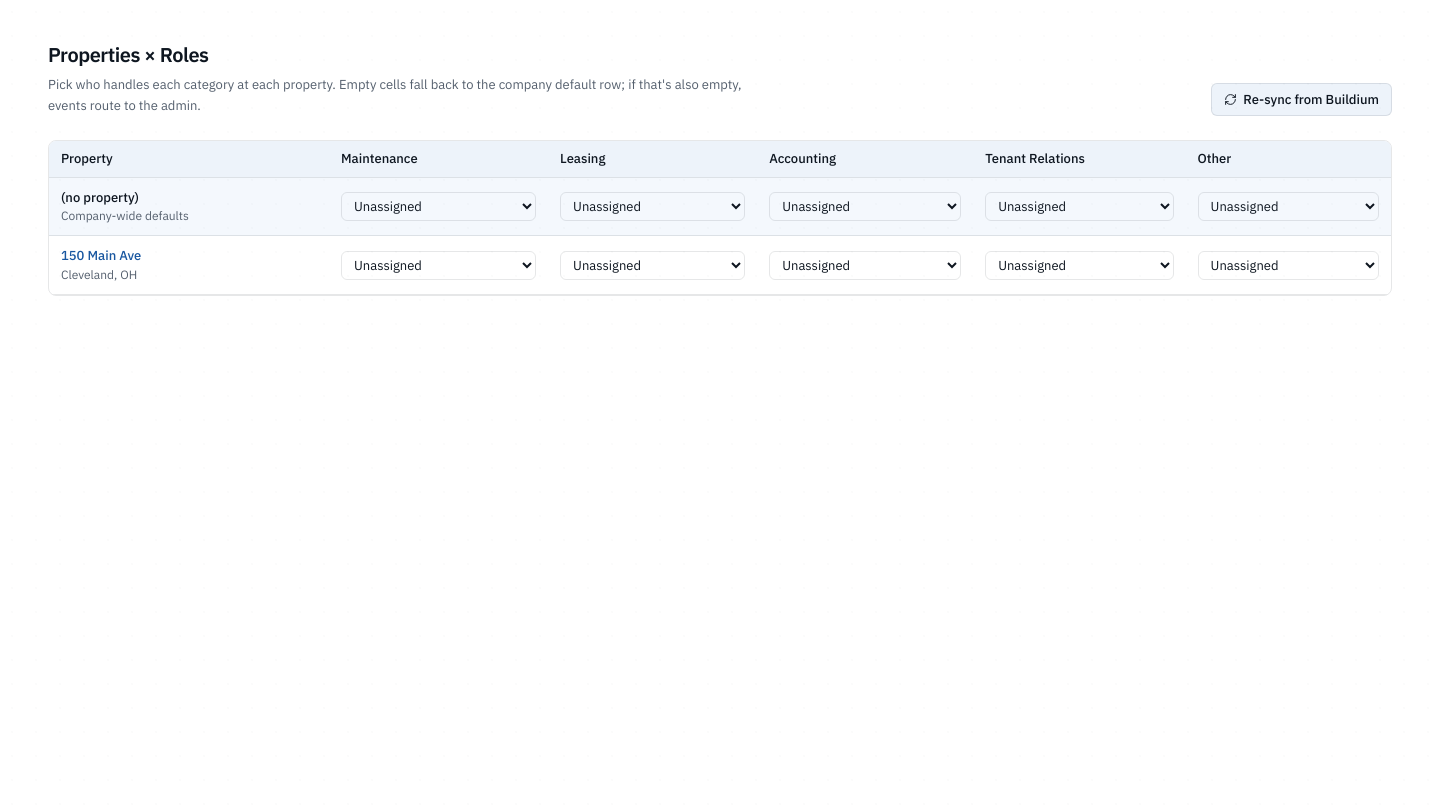
Test: PropertiesPage — PR #82 saving state › failed PUT shows the Failed pill, rolls back, and surfaces the toast
The image size is (1440, 810).
Expected: the row with test id "property-row-100" is shown, x1=49 y1=236 x2=1391 y2=294
Select "Robert Friedman · Property Manager" in the 6th dropdown with test id "assign-to-user-cell" at (439, 265), box x1=341 y1=250 x2=536 y2=280
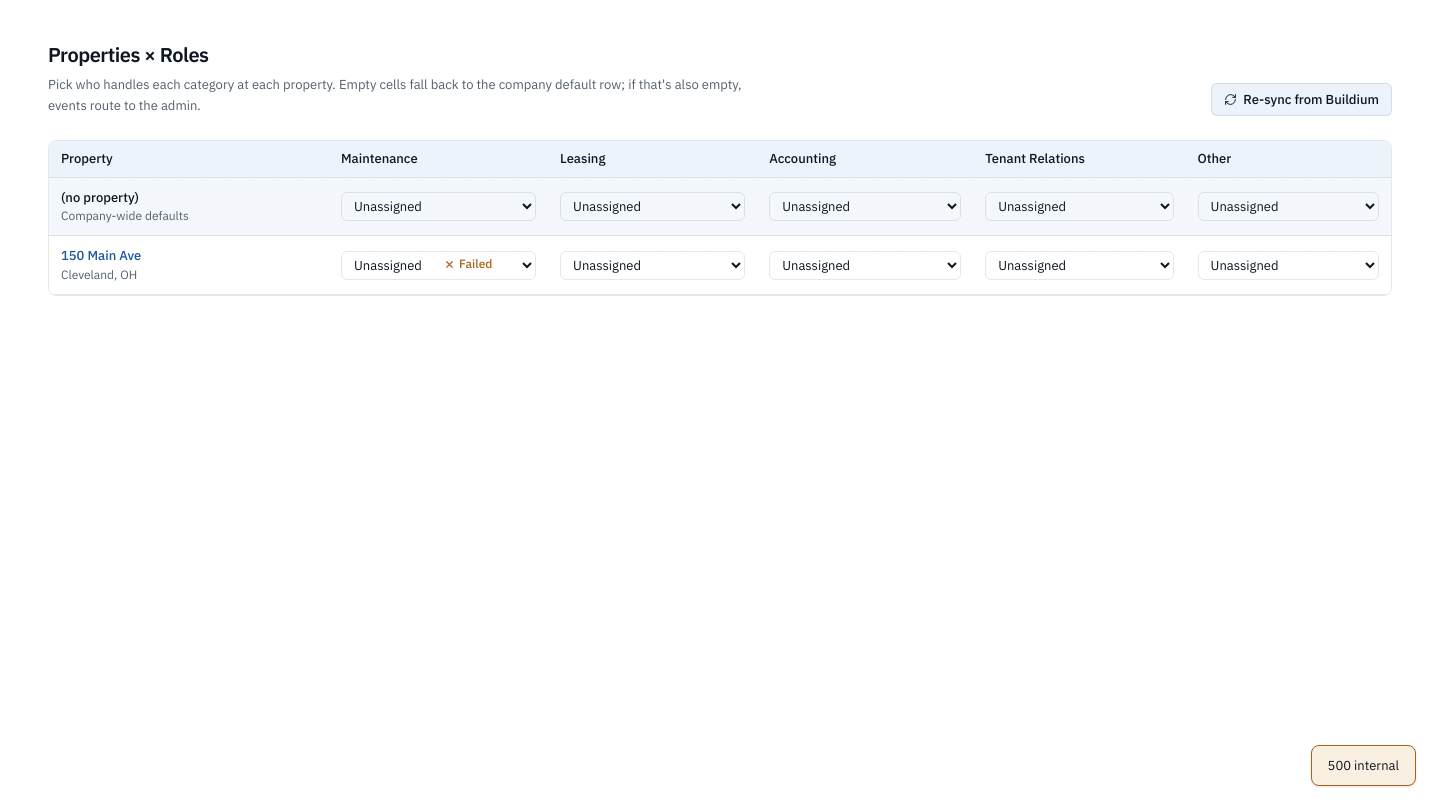
Now the message with test id "saving-pill" reads "Failed", box x1=459 y1=256 x2=492 y2=271
Now the message "500 internal" is shown, box x1=1311 y1=744 x2=1416 y2=786
Now the message with test id "properties-toast" reads "500 internal", box x1=1328 y1=756 x2=1399 y2=774
